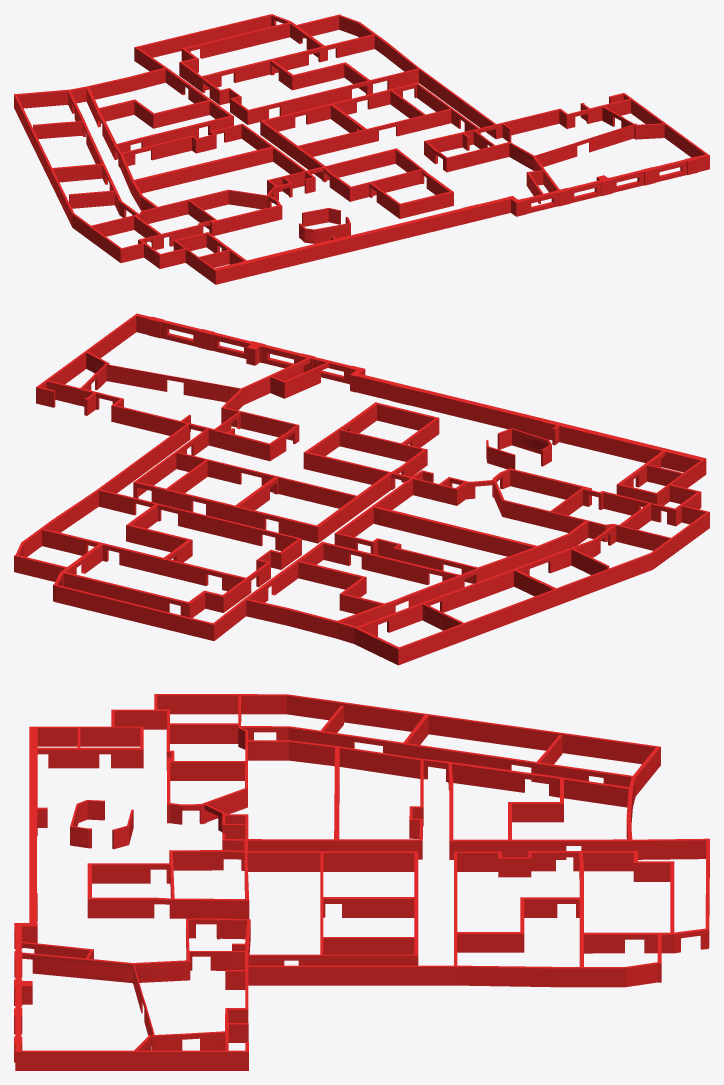
The model's file is rooms.FBX.
3 renders of one model, top to bottom at view 1: azimuth 30°, elevation 25°; view 2: azimuth 150°, elevation 25°; view 3: azimuth 270°, elevation 25°, orthographic. The views are drawn at different scales.
Visible parts, largest first — view 1: Line004; view 2: Line004; view 3: Line004.
Part boxes in pixels (box(x1,y1,x2,y2)): Line004: box(14, 14, 709, 284); Line004: box(14, 313, 709, 665); Line004: box(14, 694, 709, 1070).
Bounding box in the file's own units: 12084 × 300 × 9931.
